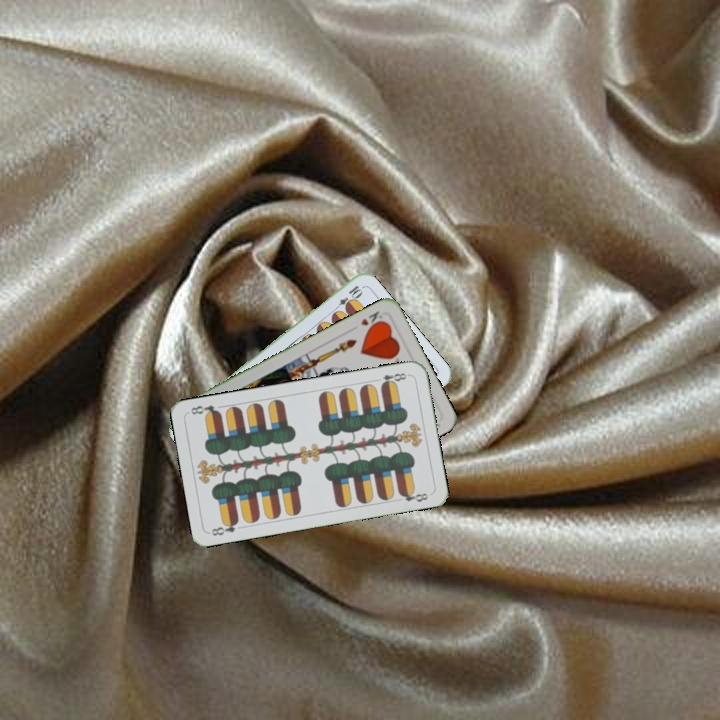E10: (330, 281, 365, 315)
E8: (207, 516, 241, 538), (377, 369, 412, 389)
HK: (356, 307, 387, 332)
